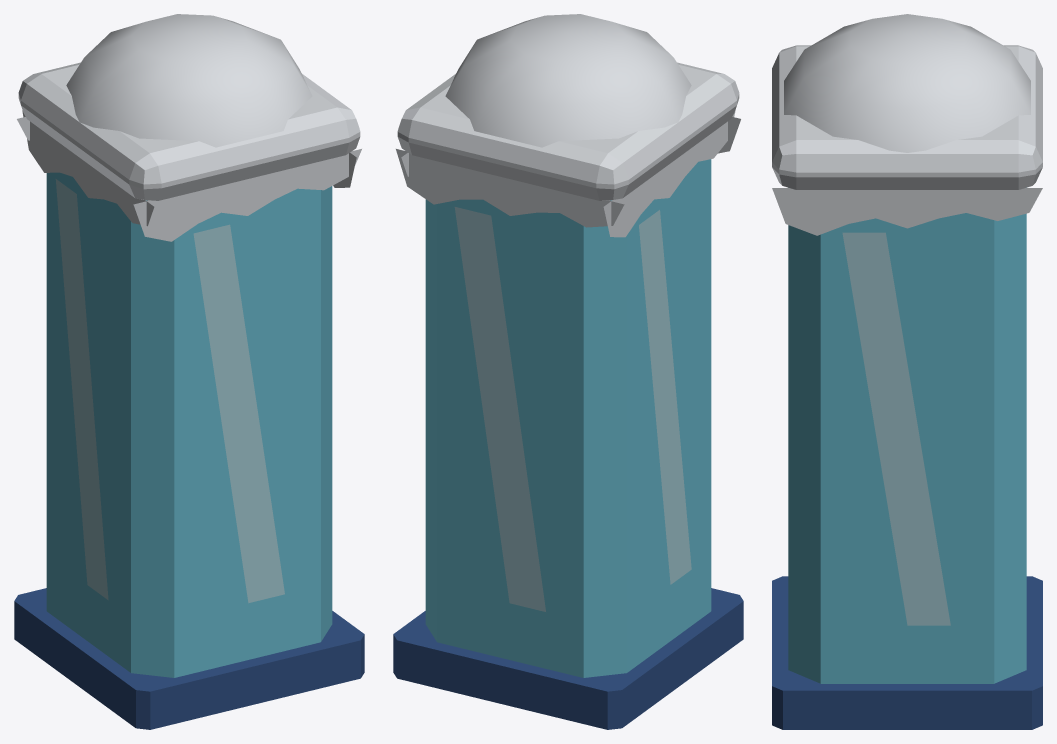
File: ice-post.glb
3 views of the same model, side by side, from view 1: azimuth 30°, elevation 25°; view 2: azimuth 150°, elevation 25°; view 3: azimuth 270°, elevation 25° (orthographic). The views are drawn at different scales.
Parts seen in each view (by area): view 1: ice-post; view 2: ice-post; view 3: ice-post.
Boxes of the visible parts, <box> form: ice-post: <box>14,14,364,729</box>; ice-post: <box>393,14,743,729</box>; ice-post: <box>772,14,1042,729</box>.
Bounding box in the file's own units: 0.5 × 1.3 × 0.5.
